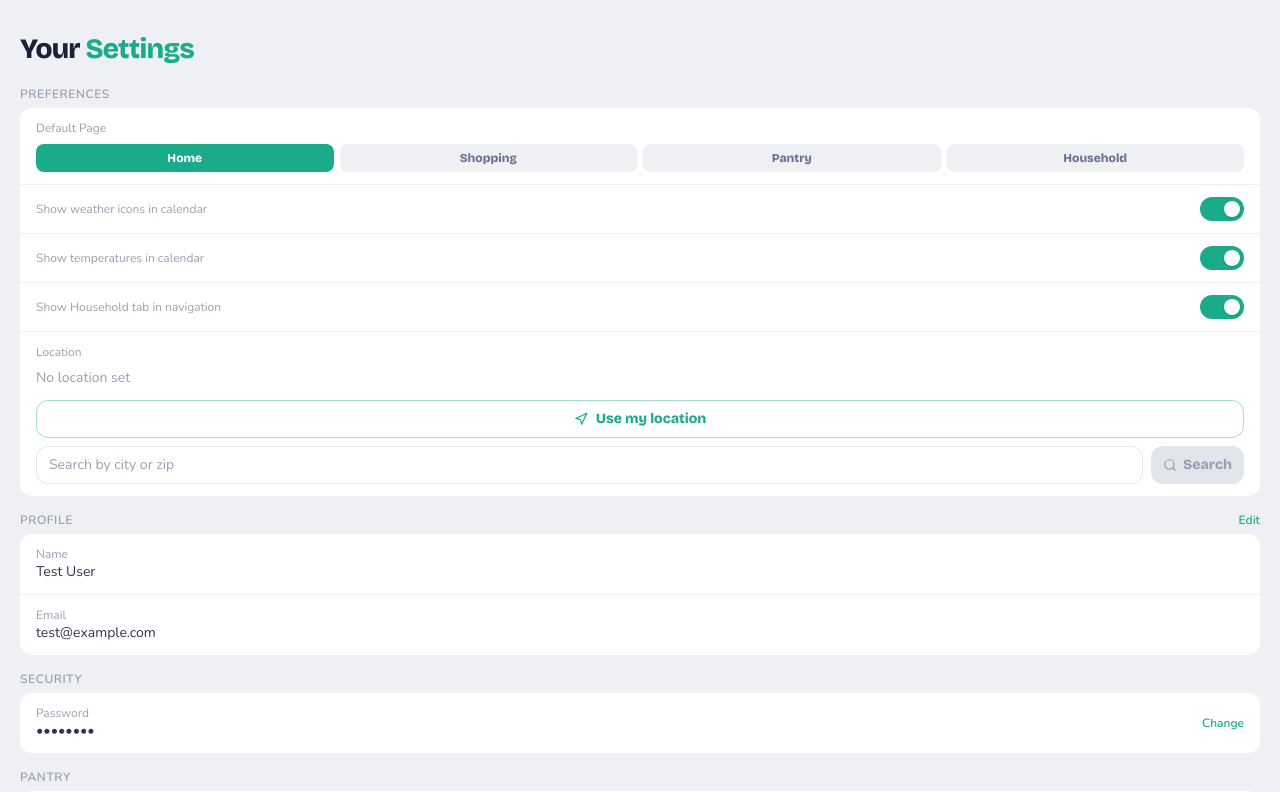
Test: SettingsPage › collapses security when profile edit is started
# Start security edit
Click the button "Change" at (1223, 723), box top-left (1202, 715), bottom-right (1244, 731)
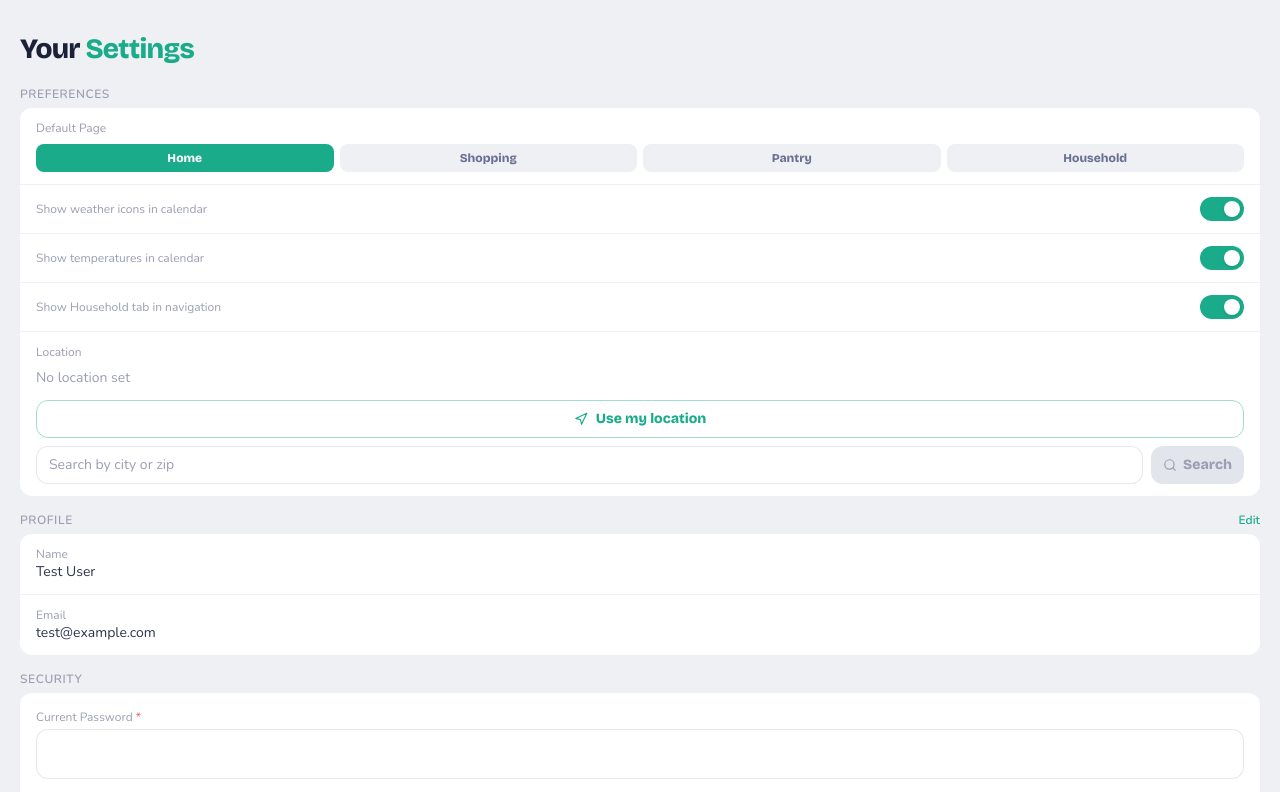
# Start profile edit — security should collapse
Click the button "Edit" at (1249, 520), box top-left (1239, 512), bottom-right (1260, 528)
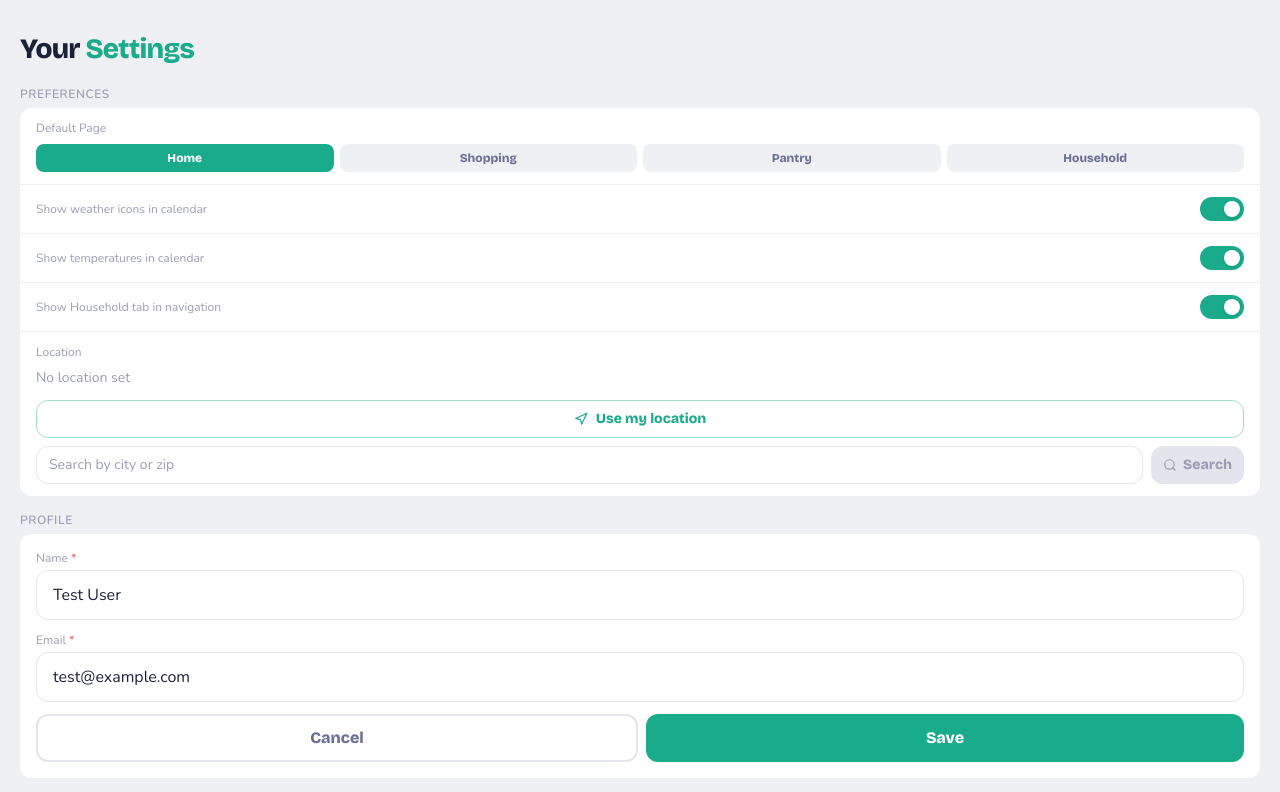
Check: the text labelled "Current Password" is gone
Check: the field showing "Test User" is shown, box top-left (36, 570), bottom-right (1244, 620)
